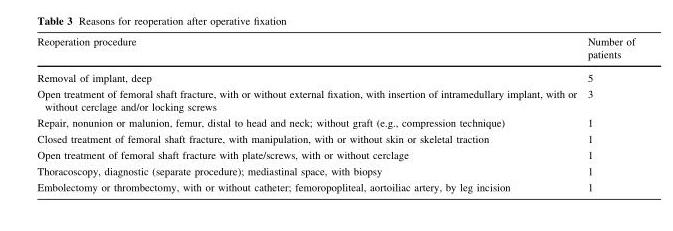table: (36, 36, 634, 192)
table column: (36, 36, 581, 192), (581, 36, 634, 192)
table column header: (36, 36, 634, 66)
table row: (36, 36, 634, 66), (36, 86, 634, 114), (36, 66, 634, 86), (36, 114, 634, 131), (36, 131, 634, 147), (36, 147, 634, 163), (36, 163, 634, 179), (36, 179, 634, 192)
